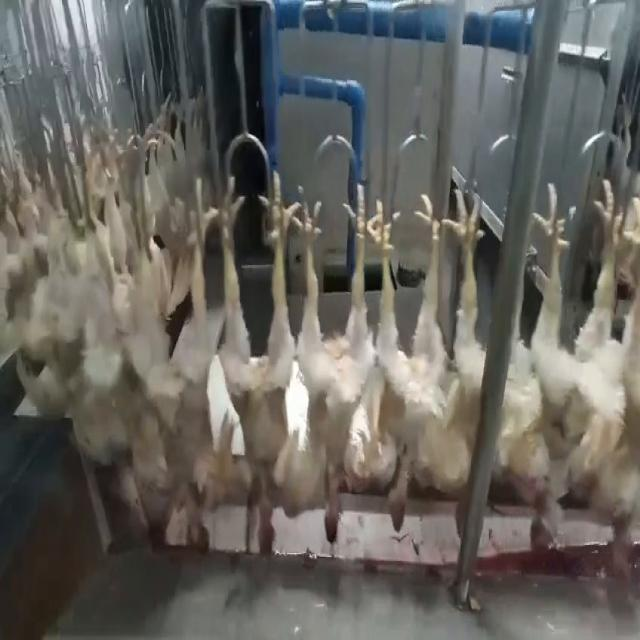chicken: (526, 175, 622, 554), (210, 168, 290, 564), (283, 180, 369, 542), (365, 176, 445, 535), (139, 170, 208, 542), (432, 166, 500, 538)
